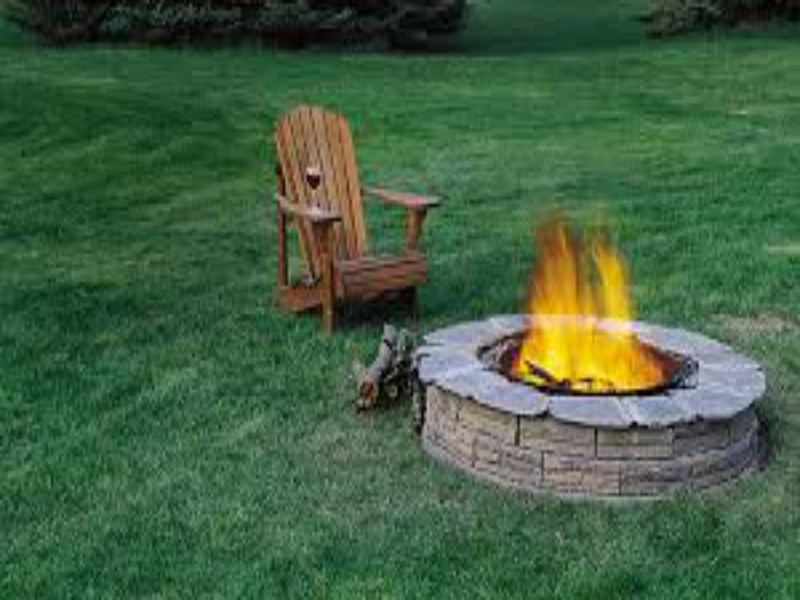fire: (514, 225, 639, 372)
